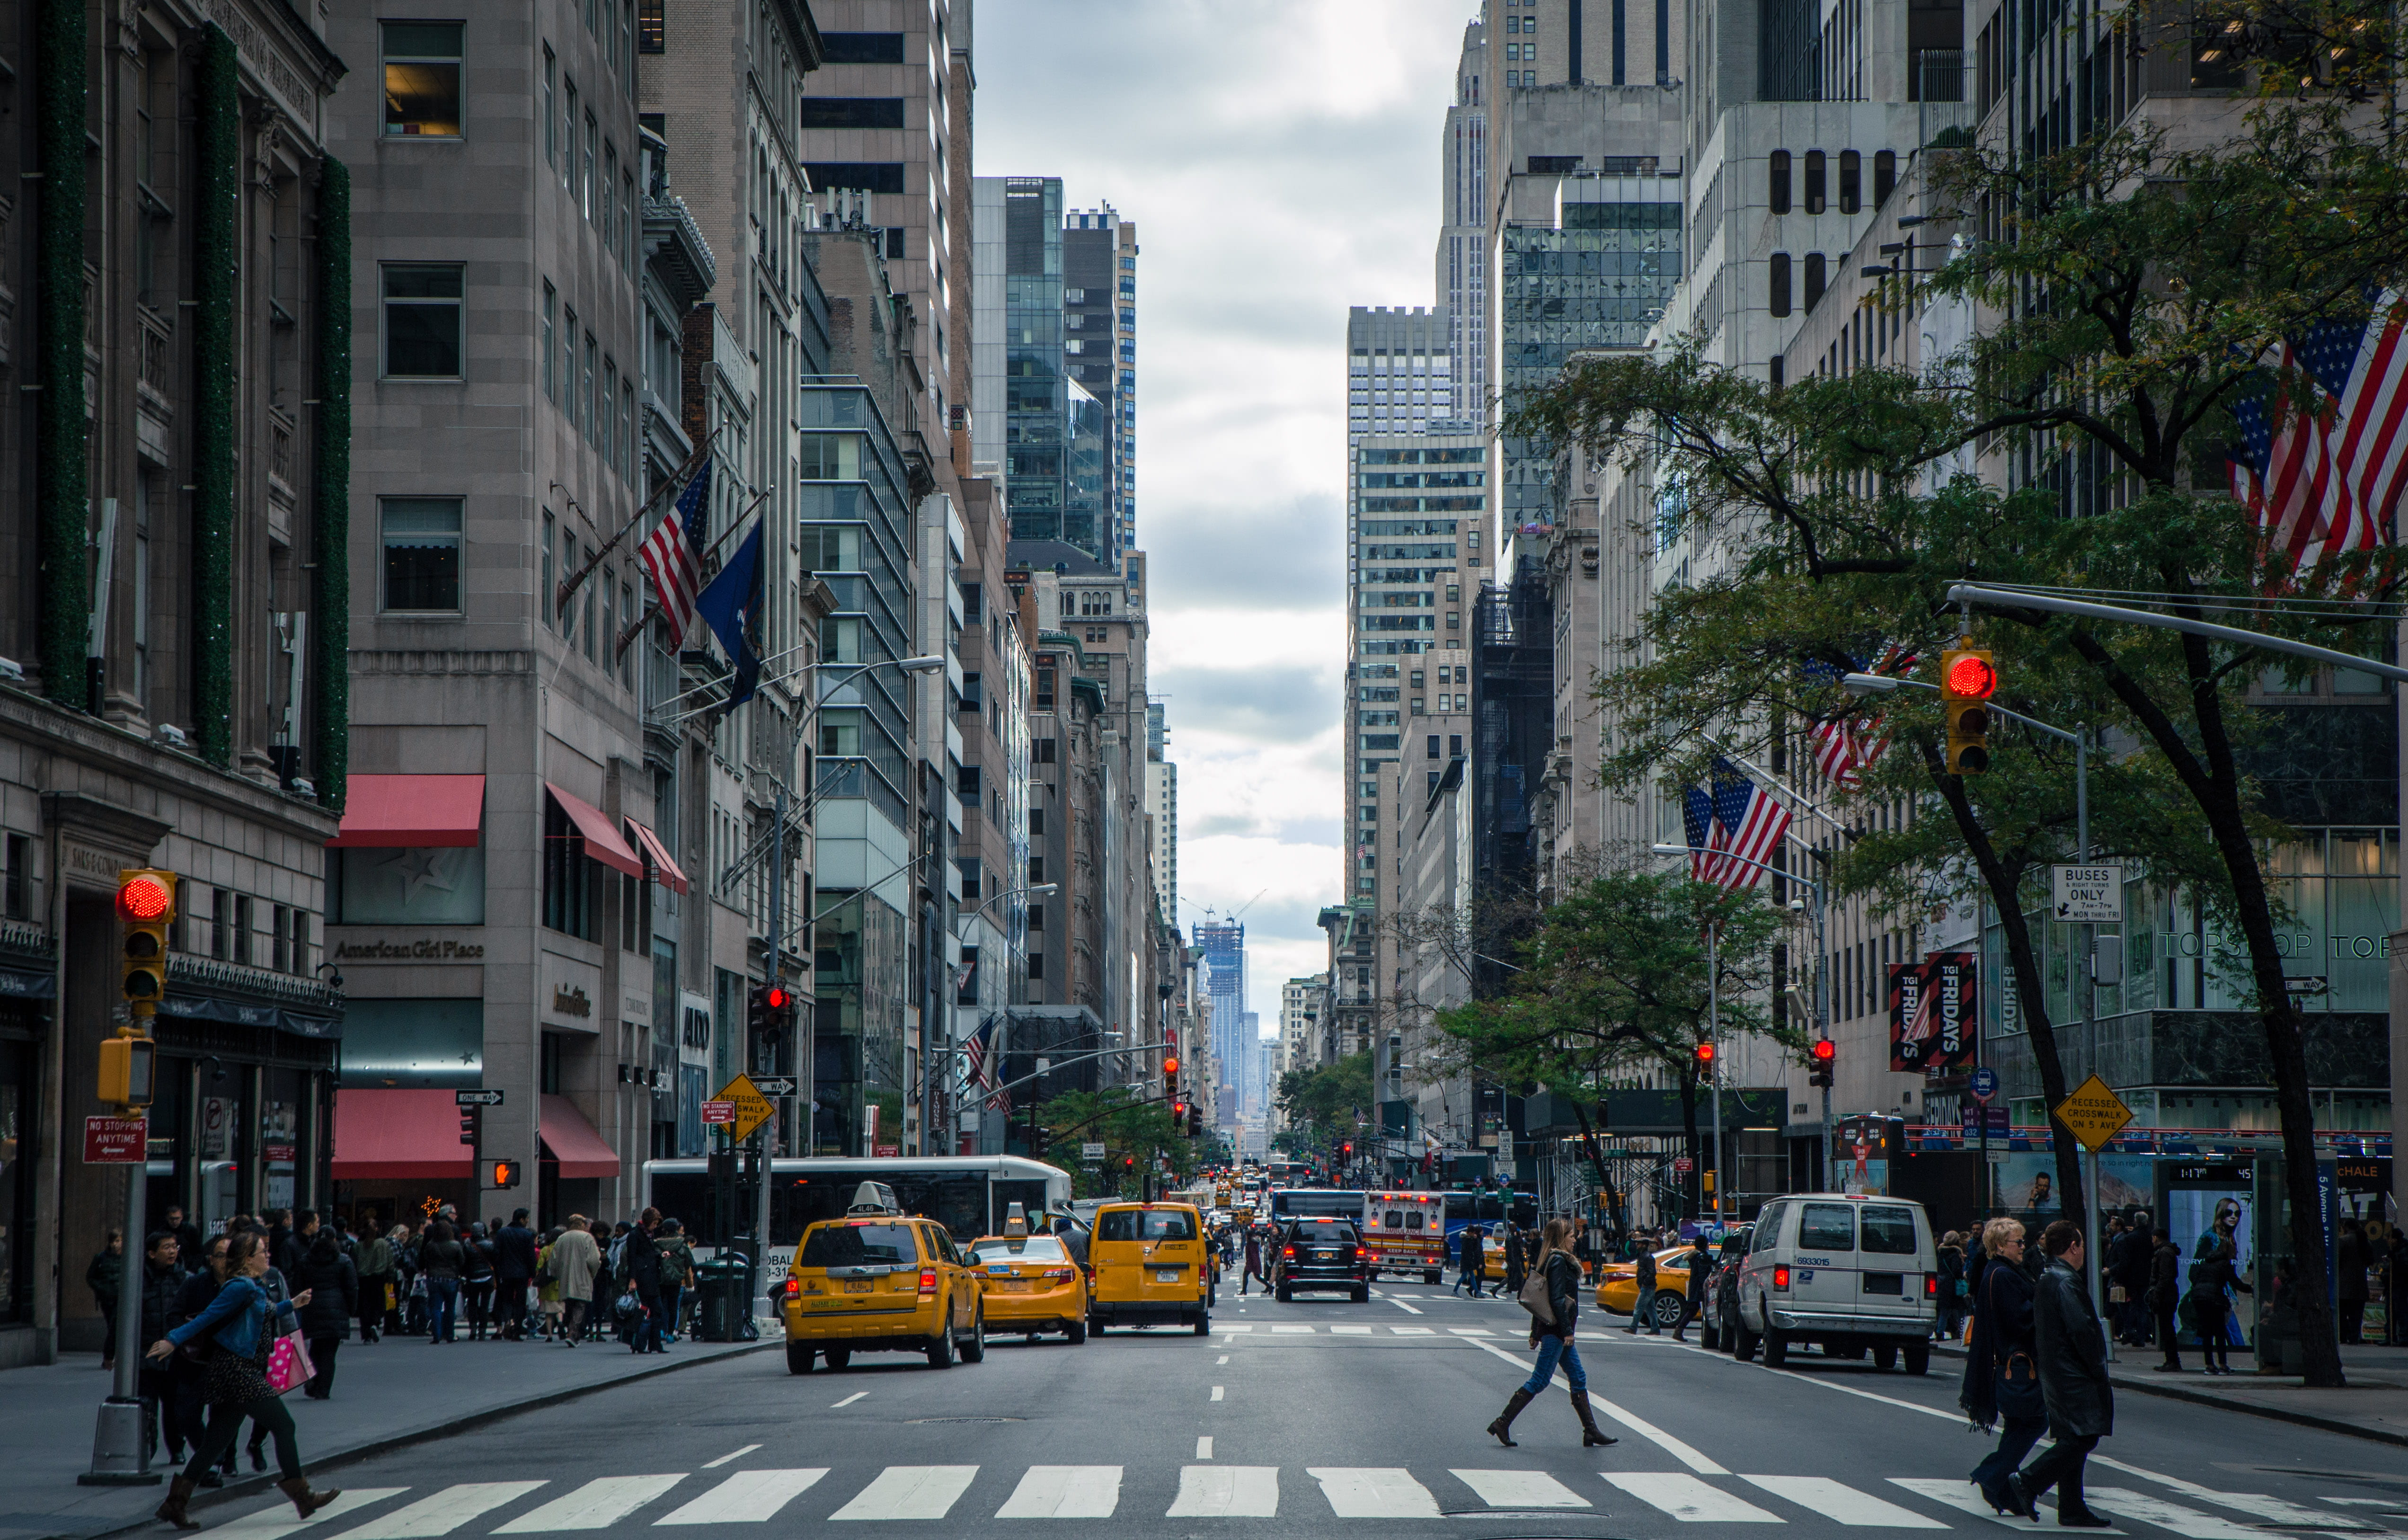Ambulance: (1364, 1189, 1446, 1284)
Bus: (1267, 1159, 1309, 1184)
Car: (1732, 1185, 1946, 1387), (1276, 1215, 1371, 1303)
Taxi: (781, 1173, 990, 1378), (1085, 1191, 1215, 1338), (965, 1224, 1088, 1343)
